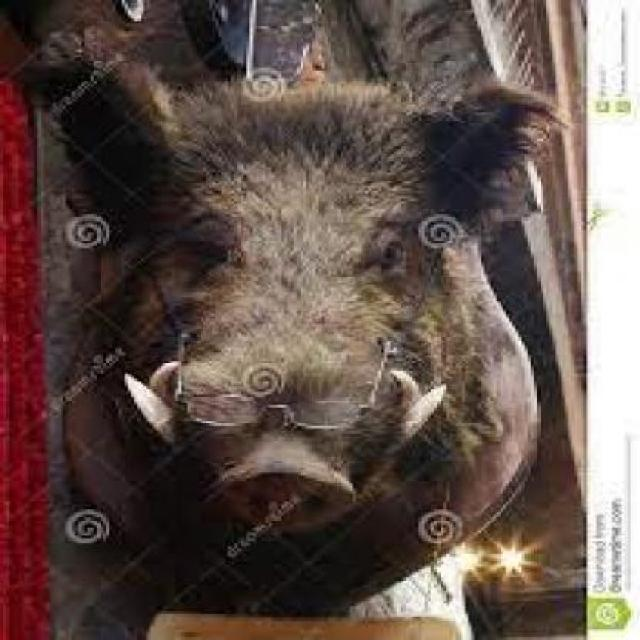wildboar: (54, 51, 561, 544)
